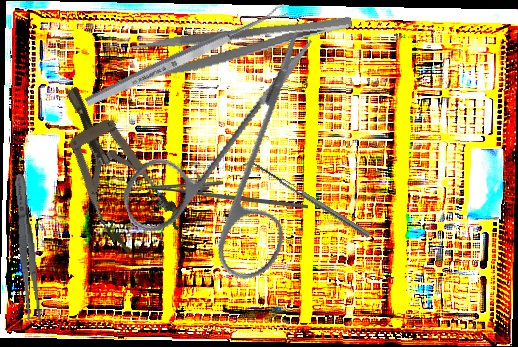Dressing Forceps: (130, 10, 356, 83), (10, 173, 44, 323)
Iris Scissors: (92, 27, 370, 307)
Needle Holder: (149, 173, 308, 209)
Spatula Surgical: (242, 156, 371, 243)
Speculum: (39, 71, 187, 260)
Surgical Spoon: (83, 2, 290, 110)
